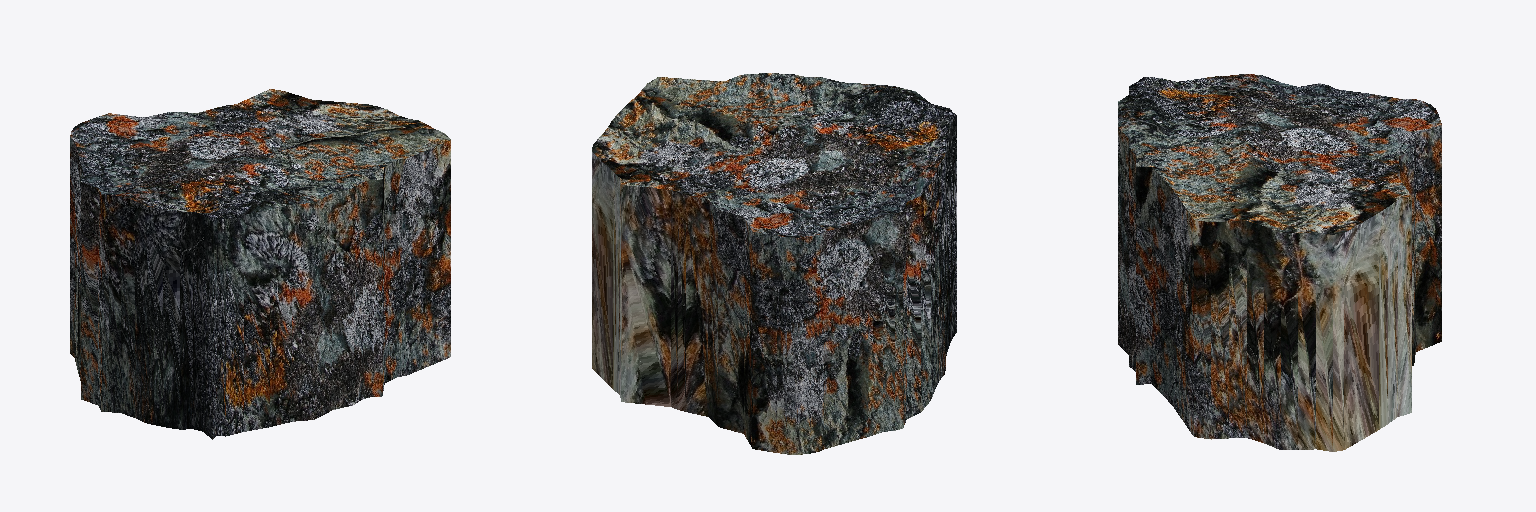
The picture shows the model from 3 angles: view 1: azimuth 30°, elevation 25°; view 2: azimuth 150°, elevation 25°; view 3: azimuth 270°, elevation 25°; orthographic projection.
Visible parts, largest first — view 1: Group04; view 2: Group04; view 3: Group04.
Part boxes in pixels (bbox=[...]): Group04: bbox=[70, 89, 450, 439]; Group04: bbox=[592, 73, 956, 454]; Group04: bbox=[1118, 74, 1441, 451].
Size of the model in its own units: 161 by 123 by 146.
Materials: 1 (1 with a texture image).